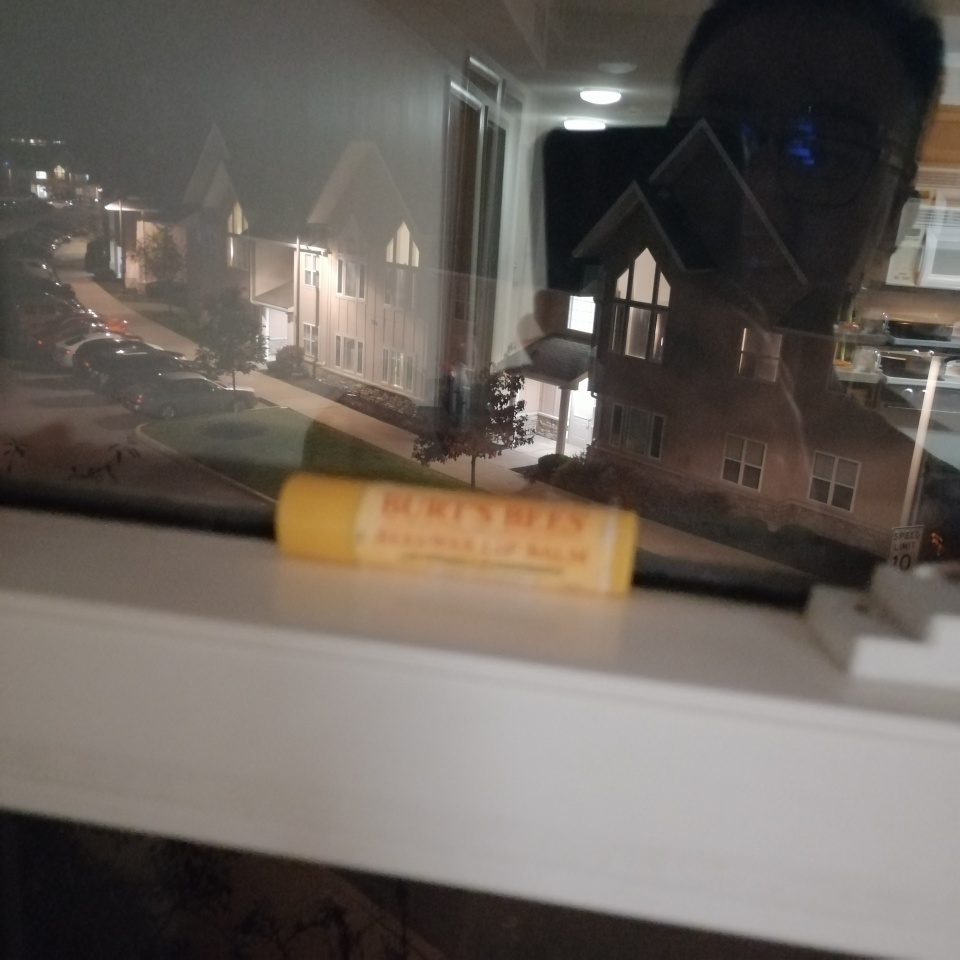chapstick: (274, 469, 641, 595)
